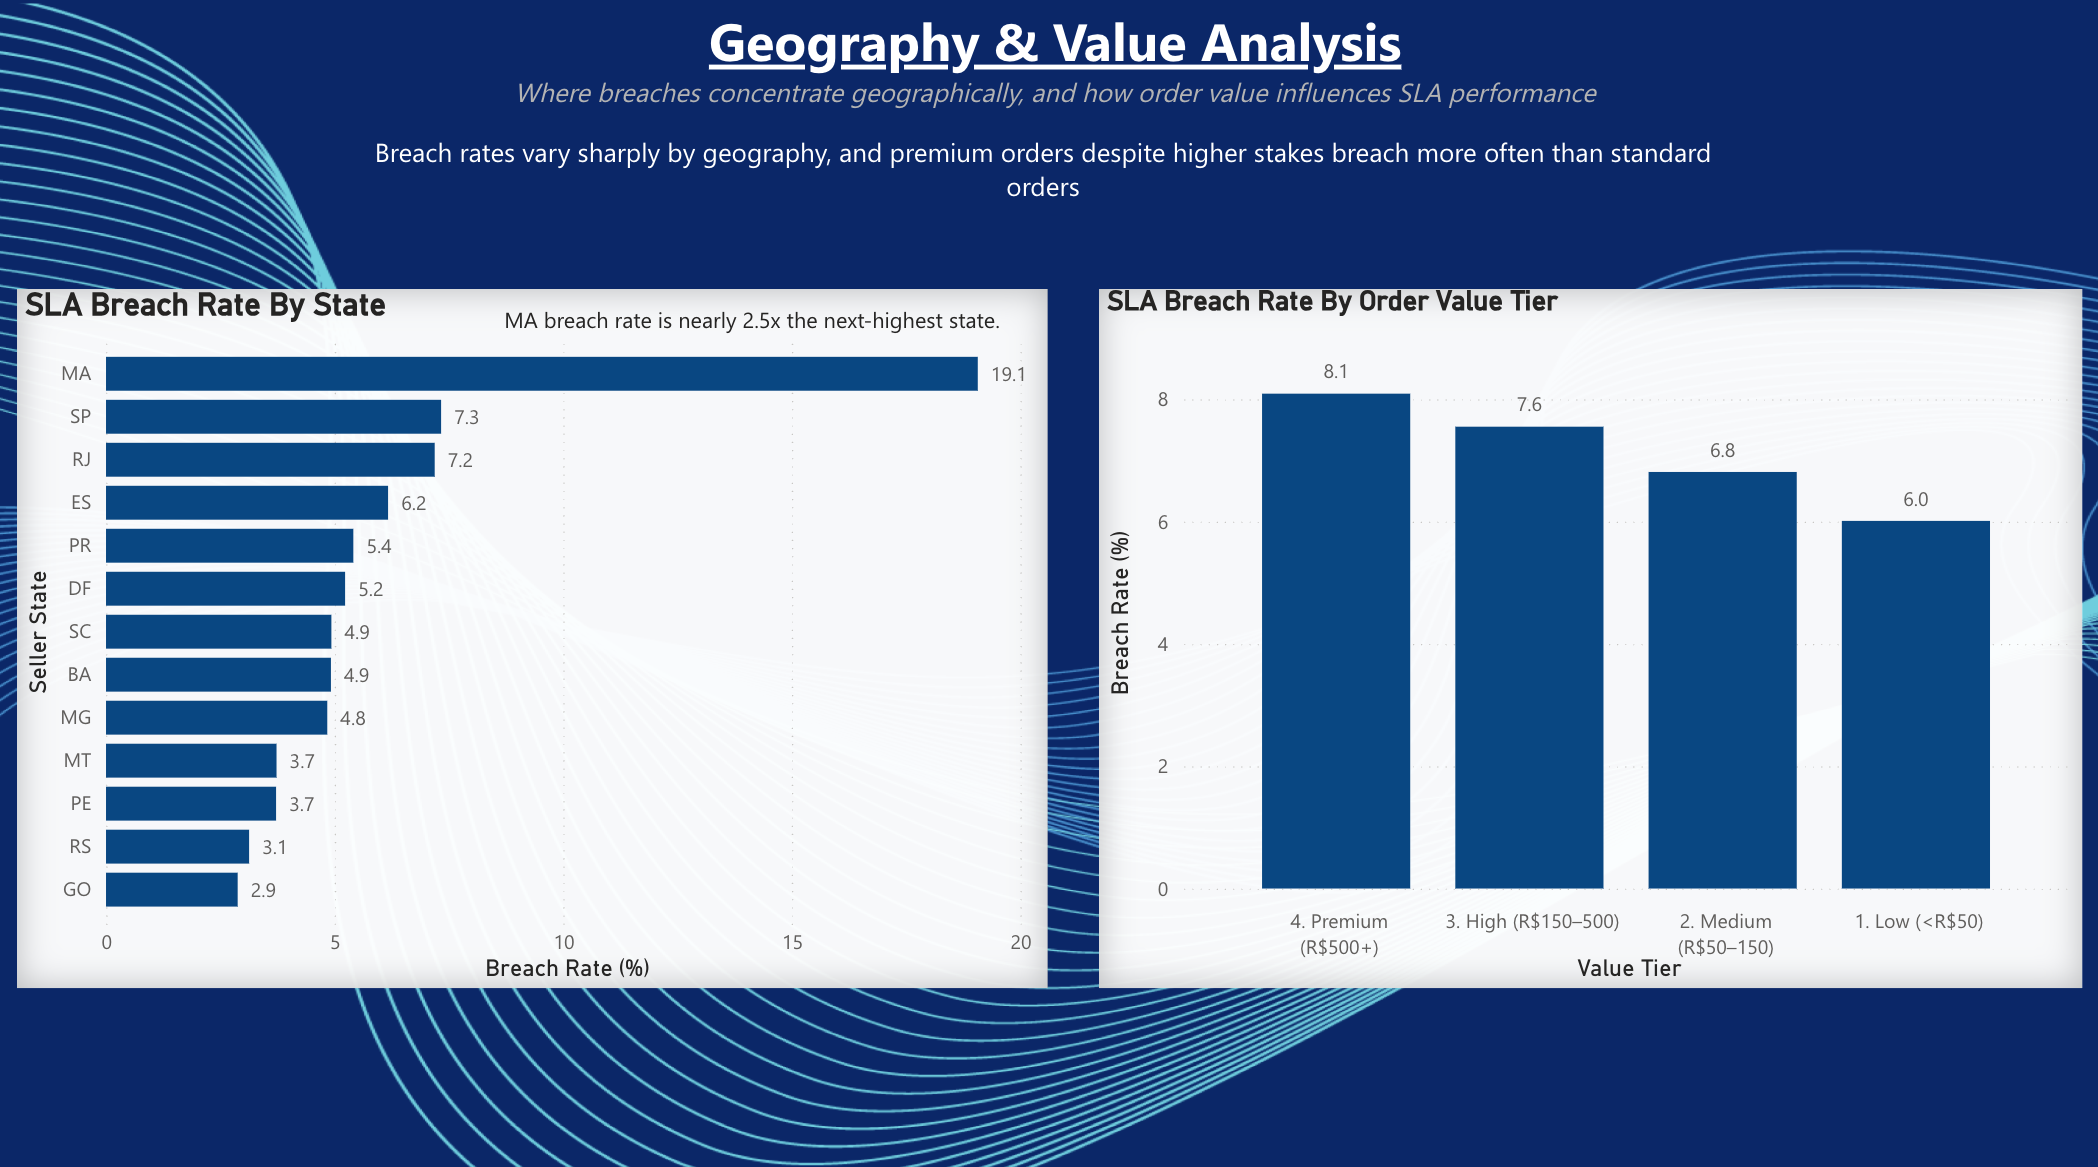

The page's visual inventory and layout, read from the dashboard file:
{"tool":"powerbi","page":{"name":"Geography & Value","canvas":[1280,720],"ordinal":2},"visuals":[{"type":"barChart","title":"SLA Breach Rate By State","fields":{"Category":["state_summary.seller_state"],"Y":["Sum(state_summary.breach_rate_pct)"]},"box":[0,113.7,640.3,429],"z":0},{"type":"columnChart","title":"SLA Breach Rate By Order Value Tier","fields":{"Category":["value_tier_summary.value_tier"],"Y":["Sum(value_tier_summary.breach_rate_pct)"]},"box":[661.8,114.6,601.8,428.1],"z":1},{"type":"textbox","box":[0,27.8,1279.7,60],"z":2}]}

Visuals, with their boxes in screenshot pixels (x1, y1, x2, y2), scaled from the page's 1280x720 canvas onto the 2098x1167 screenshot:
"SLA Breach Rate By State" barChart: 0,184,1049,880
"SLA Breach Rate By Order Value Tier" columnChart: 1085,186,2071,880
textbox: 0,45,2097,142
